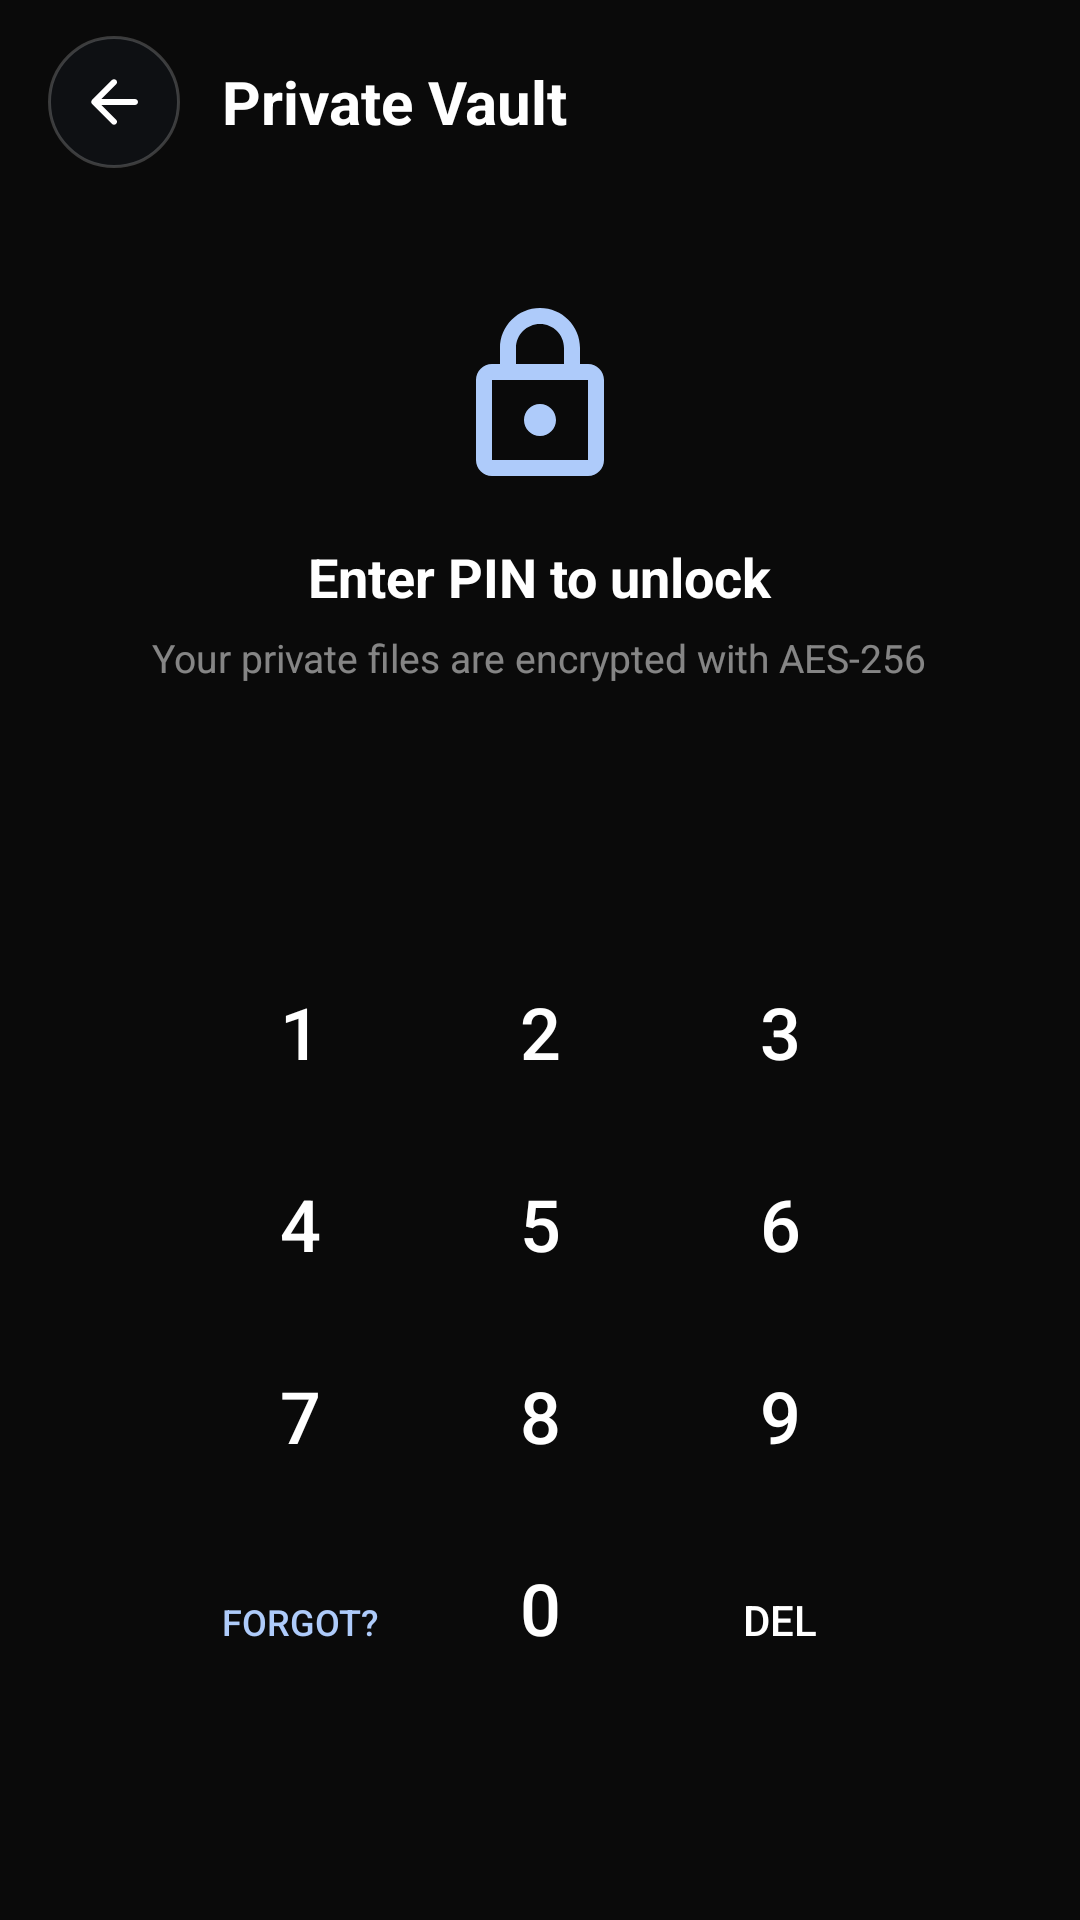

Named icons in this screenshot (1080px x 1920px) and their bounding boxes, {"left": x1, "top": y1, "right": x2, "bottom": y2}:
arrow left: {"left": 48, "top": 36, "right": 180, "bottom": 168}
lock premium: {"left": 476, "top": 308, "right": 604, "bottom": 476}
